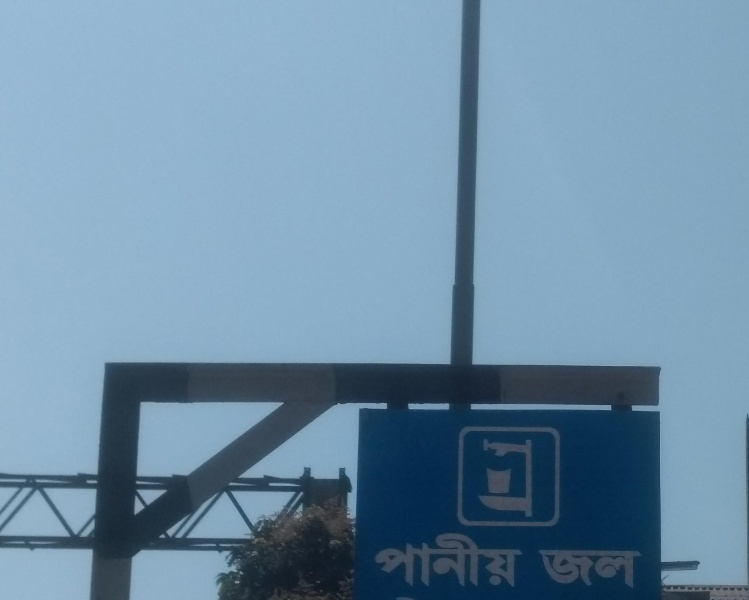text: (385, 530, 400, 592), (401, 530, 416, 592), (417, 530, 432, 592), (433, 530, 448, 592), (449, 530, 464, 592), (465, 530, 480, 592), (481, 530, 496, 592), (497, 530, 512, 592), (513, 530, 526, 592), (372, 530, 384, 592), (545, 545, 560, 591), (561, 545, 576, 591), (577, 545, 592, 591), (593, 545, 608, 591), (609, 545, 624, 591), (625, 545, 640, 591), (536, 545, 544, 591), (641, 545, 645, 591)
